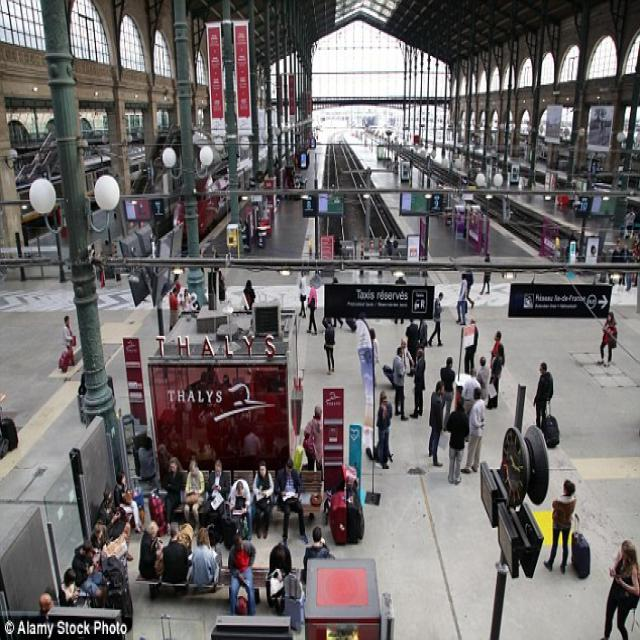body: (147, 363, 290, 466), (38, 486, 134, 632), (566, 200, 639, 302), (169, 242, 229, 321), (603, 537, 640, 640), (542, 476, 577, 576), (271, 457, 309, 549), (225, 531, 258, 625), (187, 525, 222, 593), (444, 395, 470, 486), (460, 386, 486, 475), (301, 402, 328, 486), (112, 469, 146, 534), (136, 518, 164, 594), (250, 458, 276, 538), (162, 519, 190, 585), (183, 456, 206, 536), (301, 525, 331, 586), (226, 475, 253, 540), (204, 458, 231, 518), (427, 378, 445, 468), (484, 342, 506, 411), (532, 362, 554, 431), (391, 344, 410, 422), (266, 542, 292, 599), (164, 454, 182, 536), (407, 348, 426, 419), (439, 356, 456, 434), (376, 389, 392, 470), (596, 309, 618, 366), (328, 274, 349, 328), (426, 289, 445, 346), (460, 364, 480, 414), (405, 312, 420, 378), (138, 434, 158, 481), (61, 313, 78, 368), (464, 318, 479, 378), (323, 316, 337, 377), (392, 276, 409, 326), (305, 277, 319, 336), (454, 271, 468, 327), (489, 330, 504, 374), (478, 251, 492, 297), (381, 228, 396, 270), (476, 356, 488, 407), (168, 286, 180, 333), (297, 268, 308, 319), (242, 278, 256, 316), (464, 263, 474, 310), (417, 312, 428, 352), (370, 325, 380, 365), (168, 271, 180, 287)
